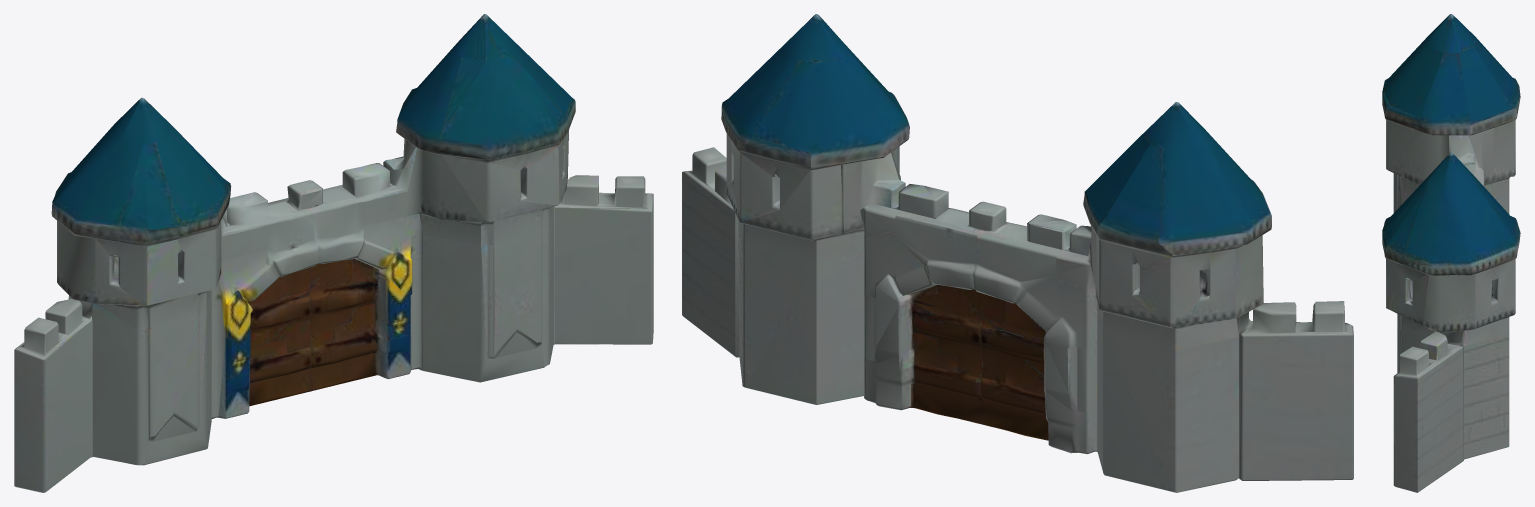
File: gatehouse-a2.glb
The picture shows the model from 3 angles, left to right: view 1: azimuth 30°, elevation 25°; view 2: azimuth 150°, elevation 25°; view 3: azimuth 270°, elevation 25°; orthographic projection. The views are drawn at different scales.
Size of the model in its own units: 1.91 by 0.963 by 0.4305.
Materials: 1 (1 with a texture image).
